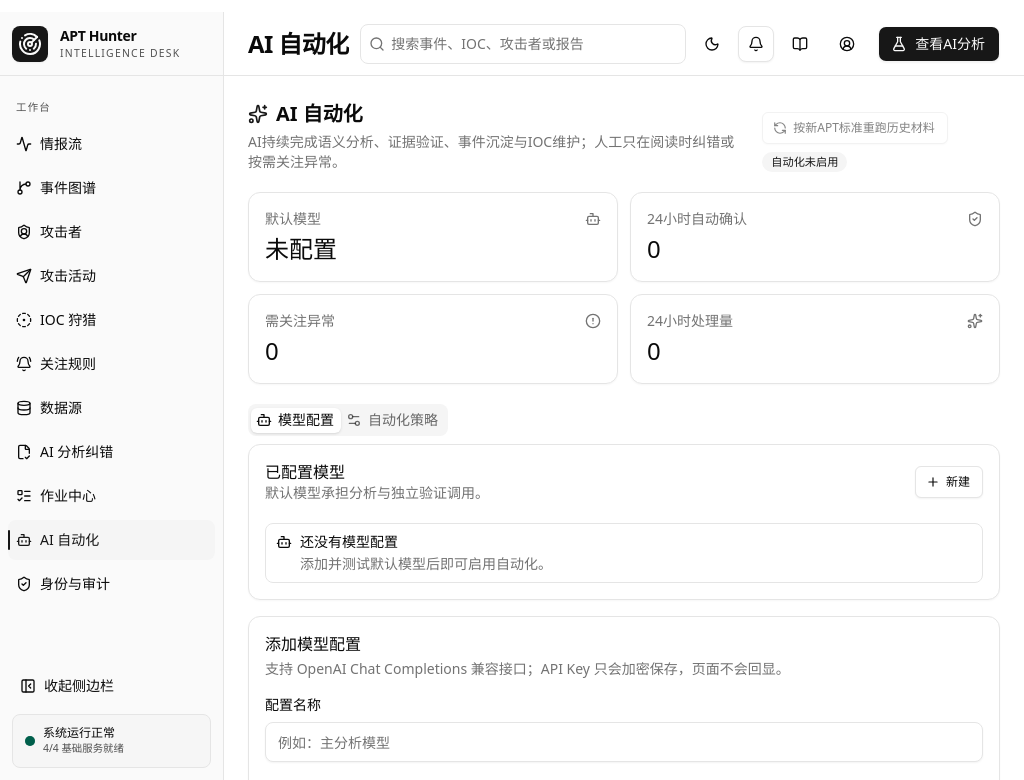
Test: AI automation settings › makes unattended operation and AI Indicator management explicit
Step 1. Click the tab "自动化策略" → (393, 420), box 341,408 -> 445,432
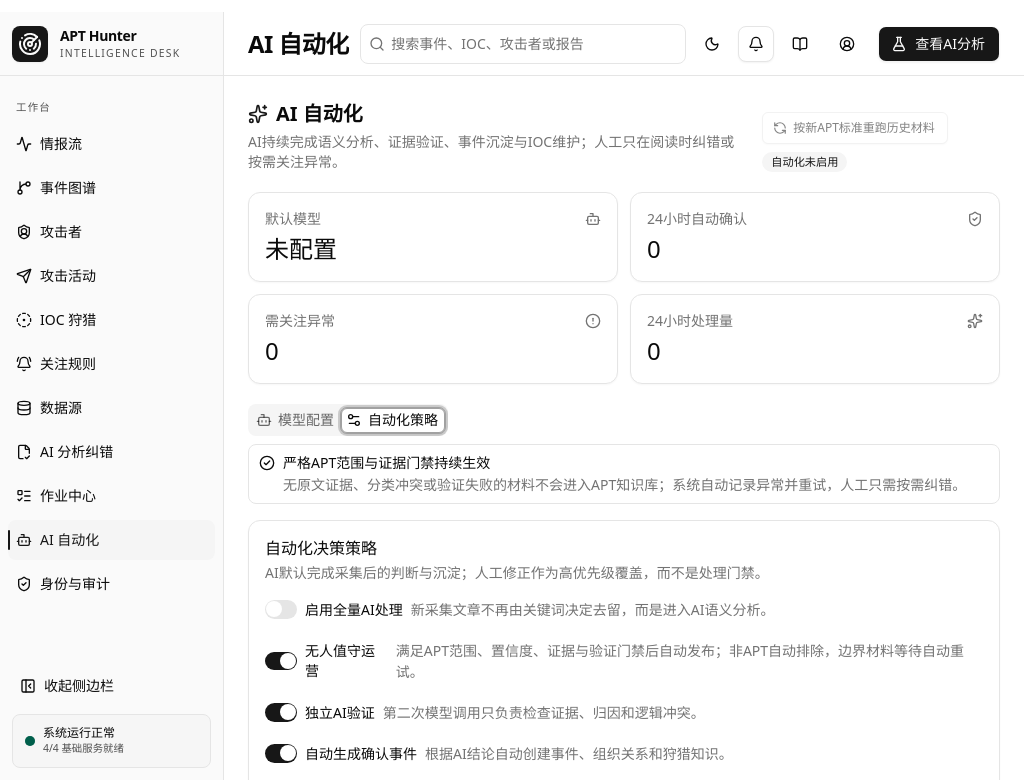
Check: the text "无人值守运营" is shown, box 305,641 -> 375,680
Check: the text "满足APT范围、置信度、证据与验证门禁后自动发布；非APT自动排除，边界材料等待自动重试。" is shown, box 396,640 -> 983,682
